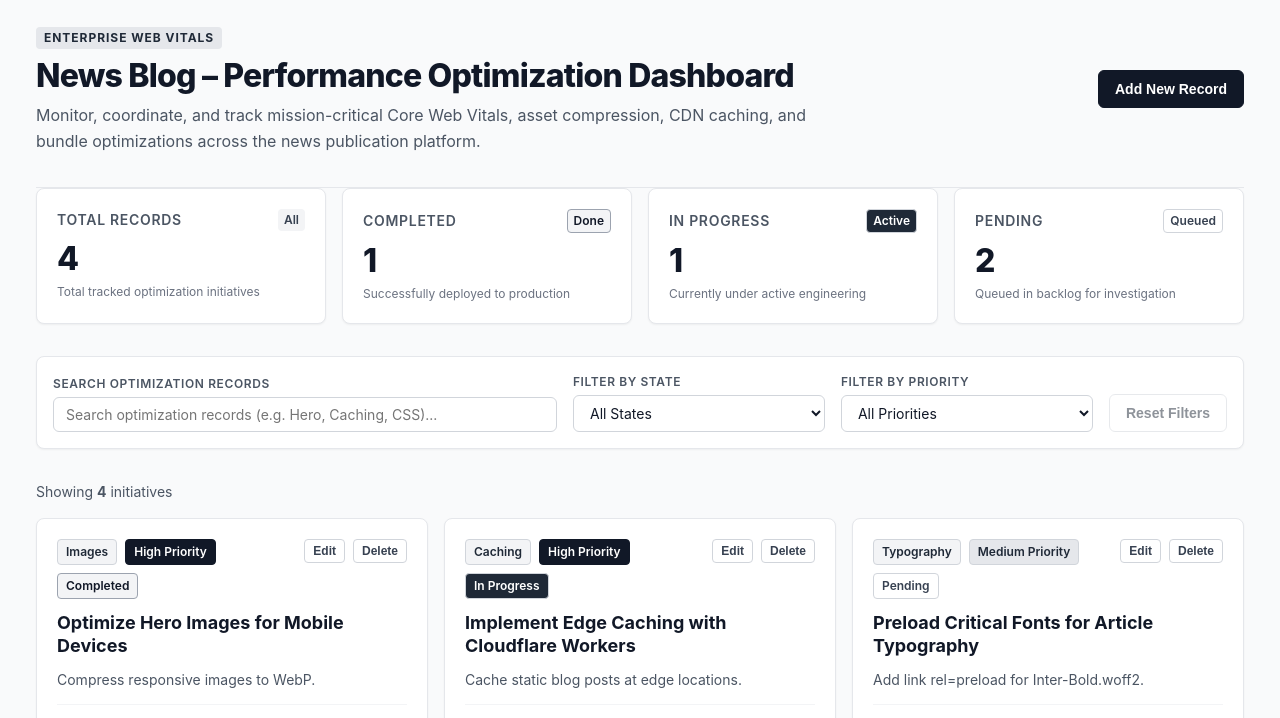
it: C. Search and Filtering Requirements › searches records by title (case-insensitive and partial match)
// Search for "hero"
Type "hero" into the field labelled "Search optimization records" at {"x": 305, "y": 414}, box top-left (53, 397), bottom-right (557, 432)
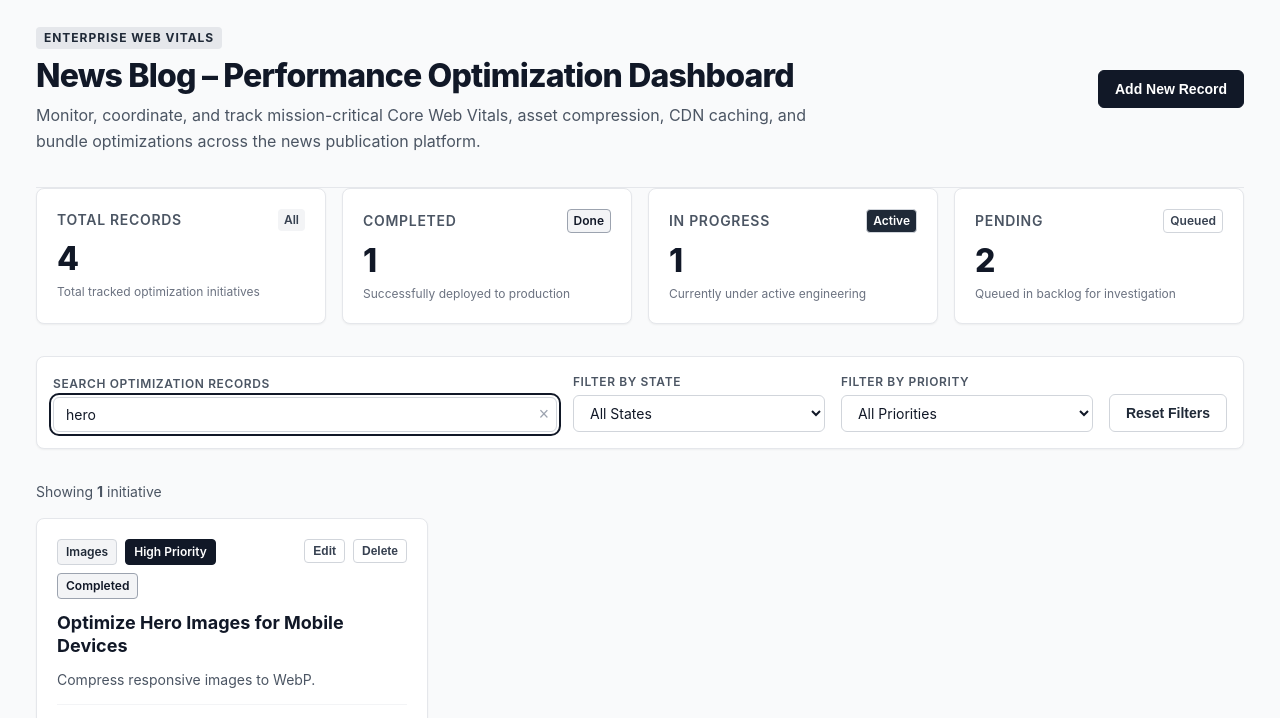
Expected: the heading "Optimize Hero Images for Mobile Devices" is shown, top-left (57, 612), bottom-right (344, 656)
Expected: the heading "Implement Edge Caching with Cloudflare Workers" is gone
Expected: the heading "Preload Critical Fonts for Article Typography" is gone
